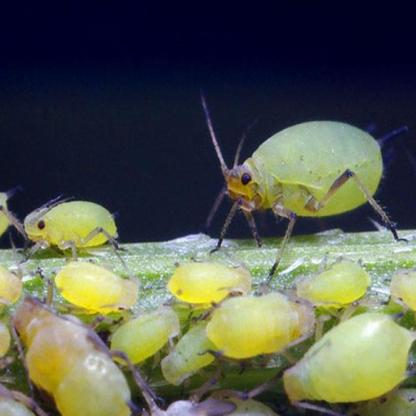aphid: (183, 86, 416, 263), (279, 299, 416, 416), (16, 307, 140, 416), (204, 290, 324, 362), (14, 188, 124, 258), (278, 245, 381, 313), (151, 249, 261, 304), (148, 317, 241, 382), (51, 249, 140, 314), (115, 296, 188, 371), (187, 369, 298, 416), (0, 237, 24, 368), (377, 258, 416, 316)
